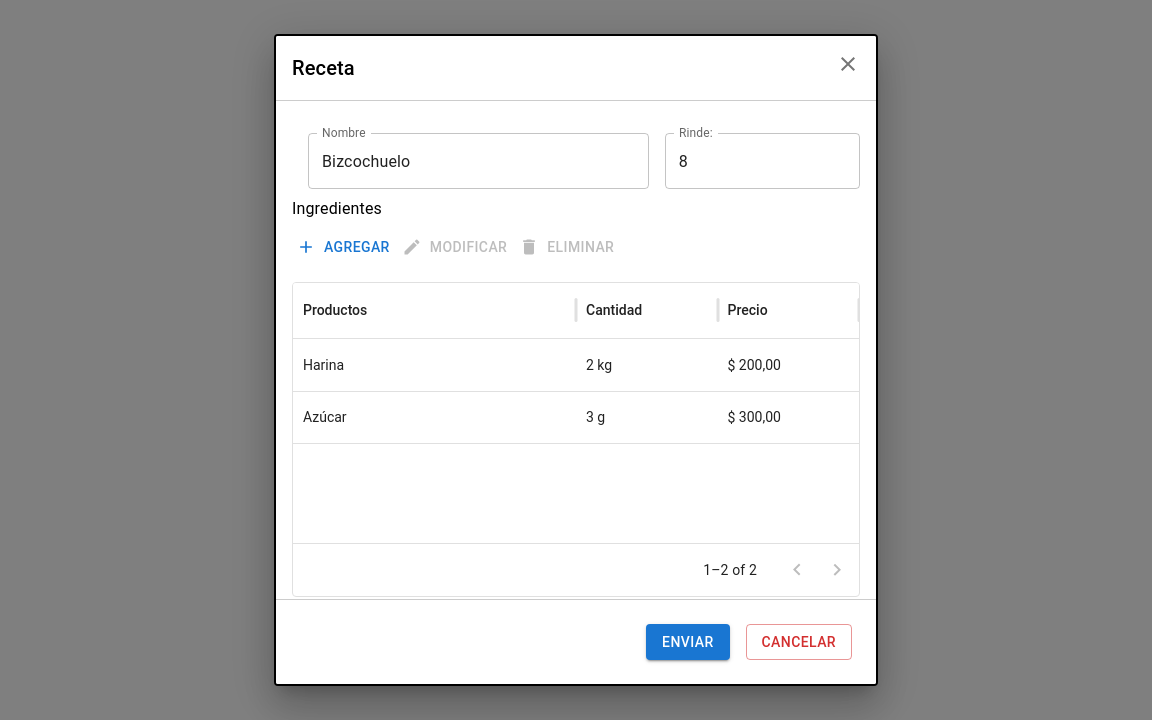
RecetaFormModal › debería mostrar mensaje de error si el service.actualizar falla
Replace the text in the field labelled "Nombre" with "Bizcochuelo Editado". click: (478, 161)
box: [308, 133, 649, 189]
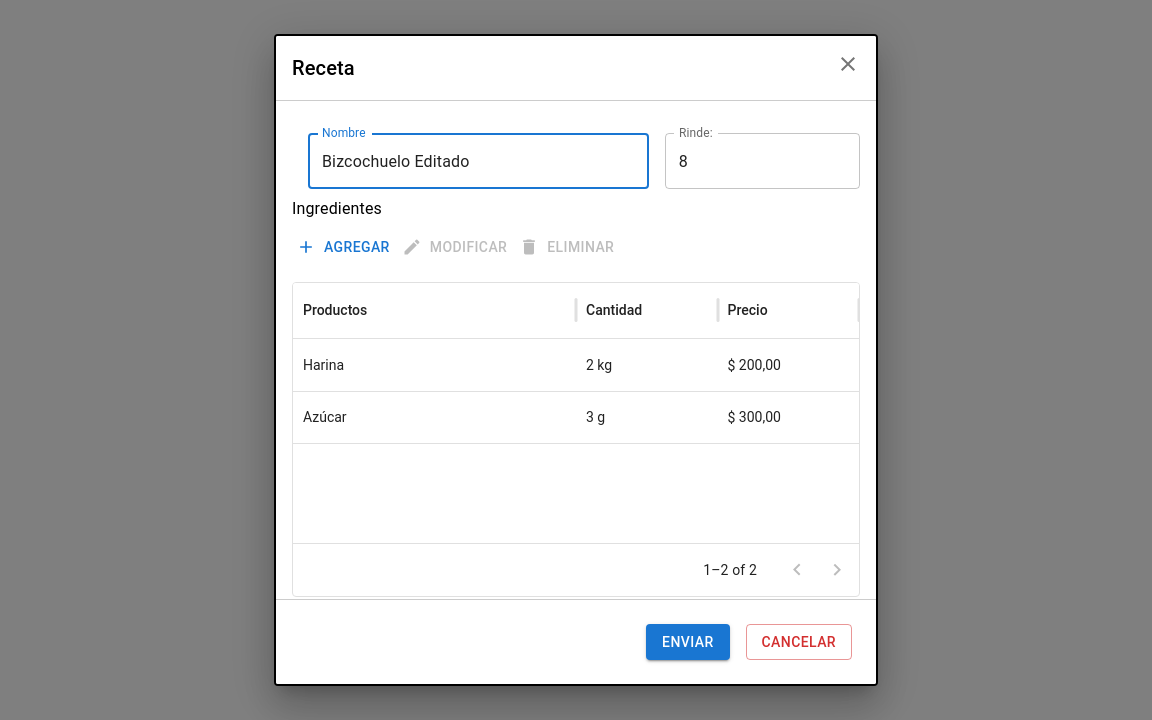
Click the button with test id "enviar-btn". click: (688, 642)
box: [646, 624, 730, 660]
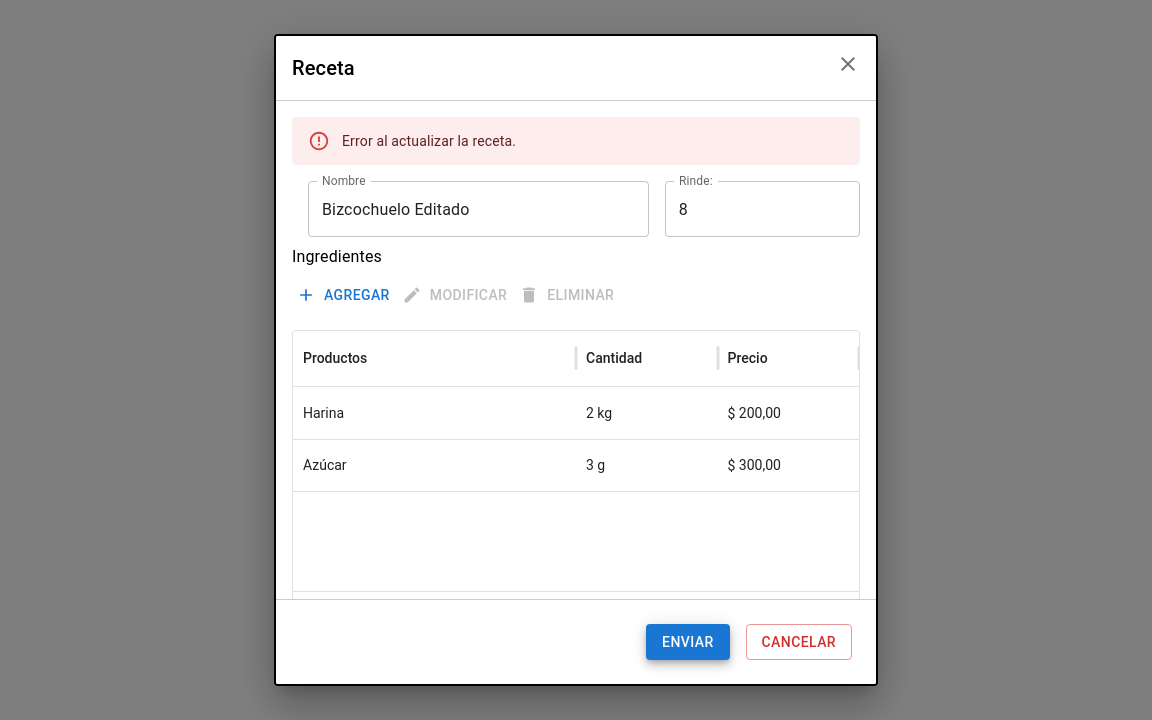
Expected: the text "Error al actualizar la receta." is shown, [342, 133, 516, 149]
